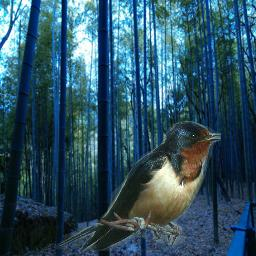Swallow: (56, 121, 221, 251)
